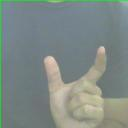hand: (44, 46, 111, 128)
